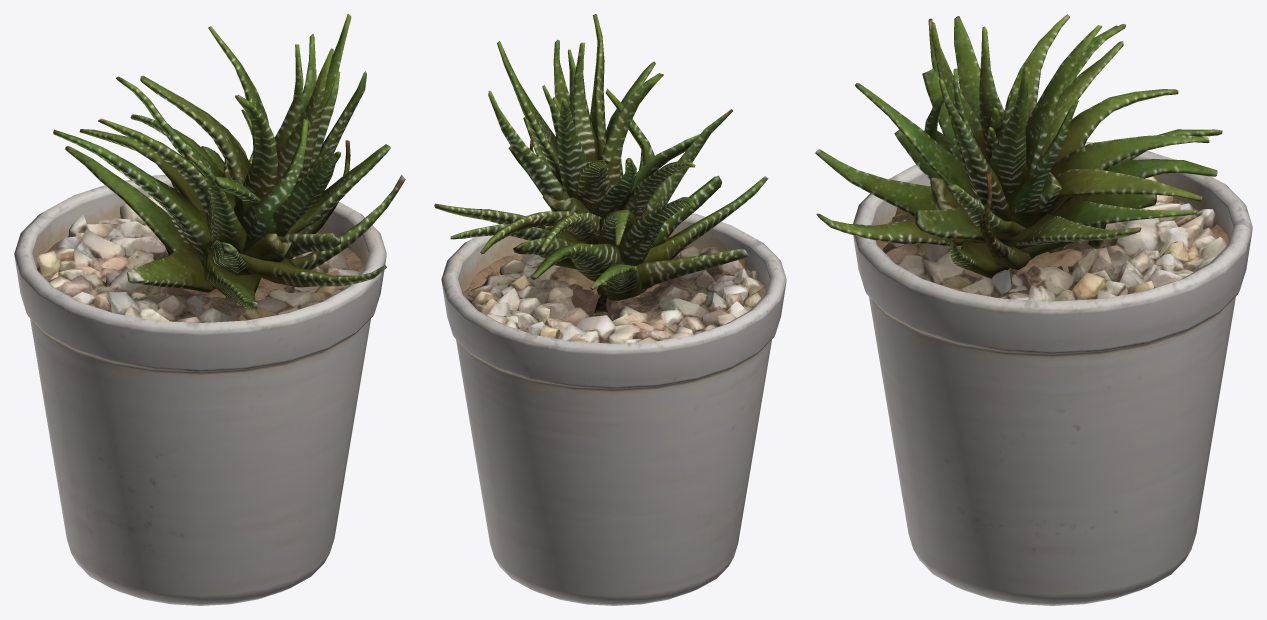
3 renders of one model, left to right at view 1: azimuth 30°, elevation 25°; view 2: azimuth 150°, elevation 25°; view 3: azimuth 270°, elevation 25°, orthographic. The views are drawn at different scales.
Visible parts, largest first — view 1: potted_plant_04_pot.001, potted_plant_04_plant.001, potted_plant_04_ground.001, potted_plant_04_dirt.001; view 2: potted_plant_04_pot.001, potted_plant_04_plant.001, potted_plant_04_ground.001, potted_plant_04_dirt.001; view 3: potted_plant_04_pot.001, potted_plant_04_plant.001, potted_plant_04_ground.001, potted_plant_04_dirt.001.
Part boxes in pixels (x1,y1,x2,y2): potted_plant_04_pot.001: [14, 175, 386, 605]; potted_plant_04_plant.001: [53, 14, 405, 310]; potted_plant_04_ground.001: [36, 195, 359, 322]; potted_plant_04_dirt.001: [36, 217, 364, 305]; potted_plant_04_pot.001: [441, 210, 786, 605]; potted_plant_04_plant.001: [434, 14, 768, 312]; potted_plant_04_ground.001: [463, 246, 765, 343]; potted_plant_04_dirt.001: [462, 245, 766, 305]; potted_plant_04_pot.001: [853, 142, 1252, 605]; potted_plant_04_plant.001: [815, 14, 1222, 278]; potted_plant_04_ground.001: [882, 176, 1227, 301]; potted_plant_04_dirt.001: [875, 198, 1228, 296].
Size of the model in its own units: 0.1703 by 0.2676 by 0.1859.
1 material, 1 textured.
